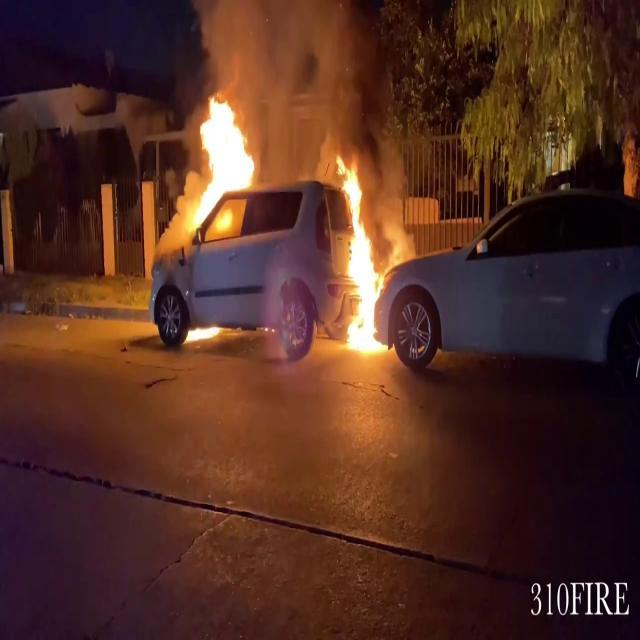Fire: (174, 91, 266, 237), (330, 150, 390, 358)
Smoke: (176, 0, 402, 150)
